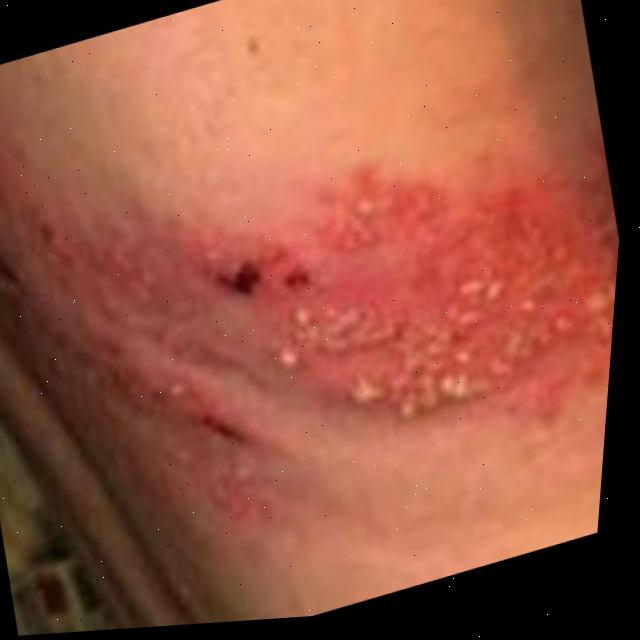Shingles: (232, 120, 628, 462)
